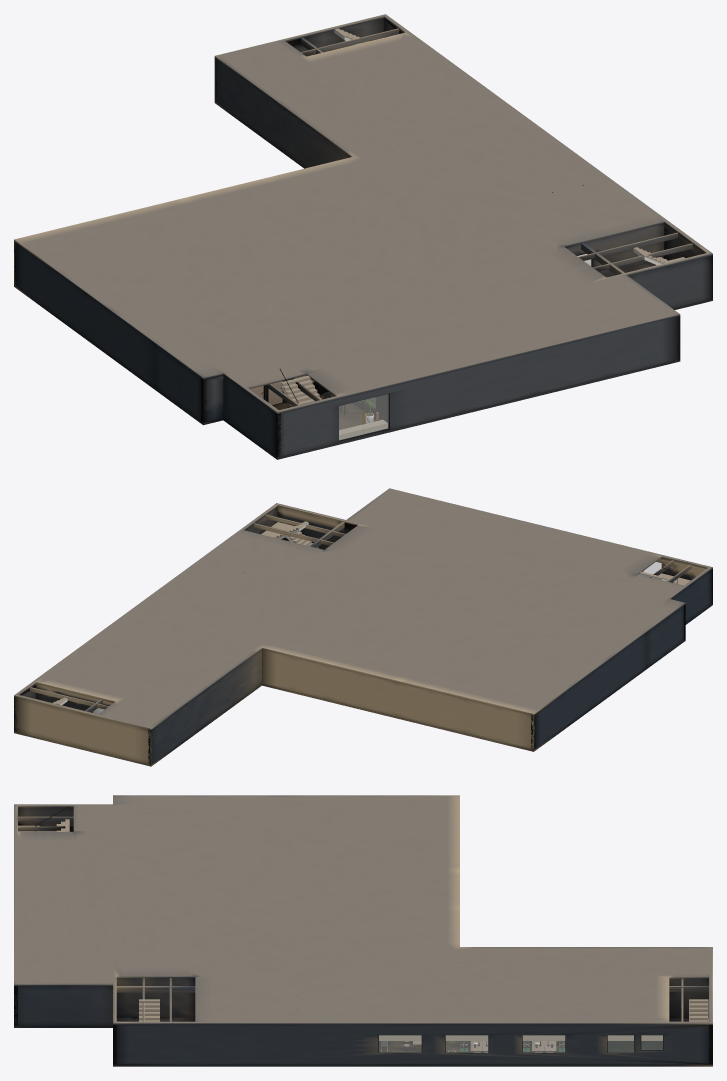
File: Final_Office_Interior_web_baked.glb
3 views of the same model, one above another, from view 1: azimuth 30°, elevation 25°; view 2: azimuth 150°, elevation 25°; view 3: azimuth 270°, elevation 25° (orthographic). The views are drawn at different scales.
Parts seen in each view (by area): view 1: WEB_SHELL_OVERHEAD, WEB_SHELL_INTERIOR, D01 door (glass2) Main gate 140"; view 2: WEB_SHELL_OVERHEAD, WEB_SHELL_INTERIOR; view 3: WEB_SHELL_OVERHEAD, WEB_SHELL_INTERIOR, W10 glass, W08 glass, W09 glass, W07 glass, ST3 south-east stair, flight 2 (layout ASSUMED), ST2 north-east stair, flight 2 (layout ASSUMED).
Part boxes in pixels (x1,y1,x2,y2): WEB_SHELL_OVERHEAD: [14, 14, 712, 413]; WEB_SHELL_INTERIOR: [14, 18, 712, 459]; D01 door (glass2) Main gate 140": [339, 394, 388, 441]; WEB_SHELL_OVERHEAD: [14, 488, 712, 729]; WEB_SHELL_INTERIOR: [14, 506, 712, 766]; WEB_SHELL_OVERHEAD: [14, 795, 712, 1024]; WEB_SHELL_INTERIOR: [14, 807, 712, 1066]; W10 glass: [379, 1035, 421, 1052]; W08 glass: [523, 1035, 564, 1052]; W09 glass: [446, 1035, 487, 1052]; W07 glass: [608, 1035, 633, 1052]; ST3 south-east stair, flight 2 (layout ASSUMED): [139, 999, 159, 1021]; ST2 north-east stair, flight 2 (layout ASSUMED): [689, 999, 708, 1021].
Size of the model in its own units: 35.59 by 4.19 by 46.1.
79 materials, 36 textured.
